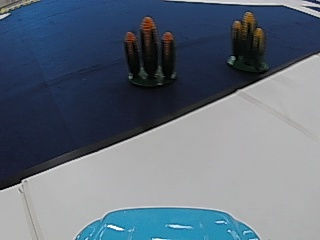corn: (122, 17, 177, 87), (227, 9, 268, 73)
